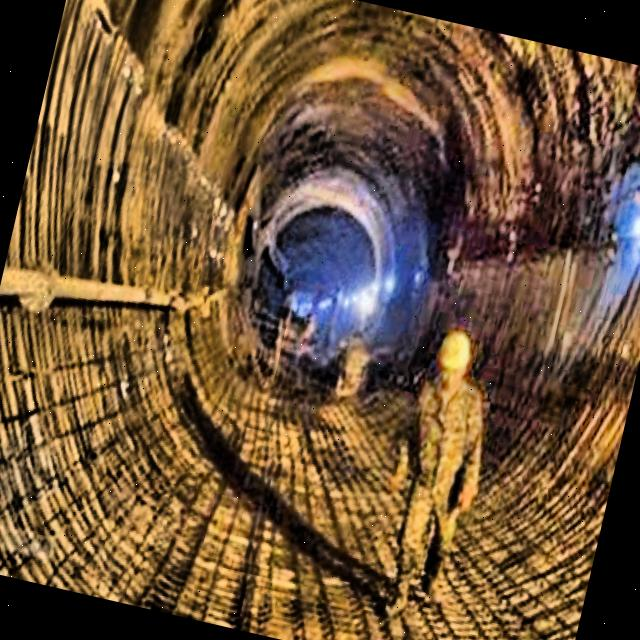helmet: (428, 321, 476, 389)
